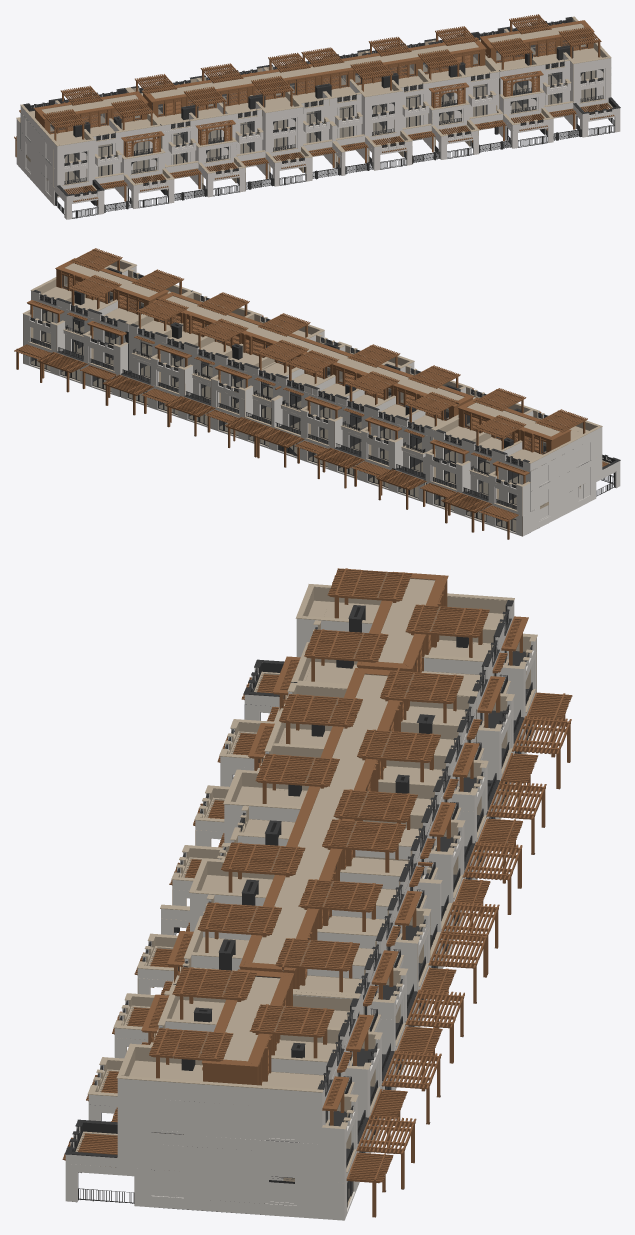
File: Arabian_b7_2_Import3DFiles.glb
The picture shows the model from 3 angles, top to bottom: view 1: azimuth 30°, elevation 25°; view 2: azimuth 150°, elevation 25°; view 3: azimuth 270°, elevation 25°; orthographic projection. The views are drawn at different scales.
Parts seen in each view (by area): view 1: mesh_material_from_multipatch, mesh_material_from_multipatch_4, mesh_material_from_multipatch_7, mesh_material_from_multipatch_6, mesh_material_from_multipatch_2, mesh_material_from_multipatch_5, mesh_material_from_multipatch_1, mesh_material_from_multipatch_3; view 2: mesh_material_from_multipatch_4, mesh_material_from_multipatch, mesh_material_from_multipatch_7, mesh_material_from_multipatch_6, mesh_material_from_multipatch_2, mesh_material_from_multipatch_5, mesh_material_from_multipatch_1; view 3: mesh_material_from_multipatch_4, mesh_material_from_multipatch, mesh_material_from_multipatch_7, mesh_material_from_multipatch_2, mesh_material_from_multipatch_6, mesh_material_from_multipatch_1.
Boxes of the visible parts, left/top/right/bottom form: mesh_material_from_multipatch: left=16, top=19, right=620, bottom=219; mesh_material_from_multipatch_4: left=14, top=14, right=614, bottom=205; mesh_material_from_multipatch_7: left=26, top=19, right=612, bottom=196; mesh_material_from_multipatch_6: left=18, top=17, right=620, bottom=214; mesh_material_from_multipatch_2: left=16, top=16, right=611, bottom=192; mesh_material_from_multipatch_5: left=50, top=37, right=595, bottom=183; mesh_material_from_multipatch_1: left=57, top=70, right=609, bottom=218; mesh_material_from_multipatch_3: left=72, top=74, right=614, bottom=218; mesh_material_from_multipatch_4: left=14, top=248, right=608, bottom=539; mesh_material_from_multipatch: left=23, top=266, right=620, bottom=536; mesh_material_from_multipatch_7: left=26, top=253, right=610, bottom=531; mesh_material_from_multipatch_6: left=30, top=267, right=620, bottom=536; mesh_material_from_multipatch_2: left=22, top=259, right=602, bottom=536; mesh_material_from_multipatch_5: left=30, top=276, right=546, bottom=531; mesh_material_from_multipatch_1: left=30, top=309, right=610, bottom=532; mesh_material_from_multipatch_4: left=62, top=568, right=572, bottom=1217; mesh_material_from_multipatch: left=65, top=587, right=536, bottom=1220; mesh_material_from_multipatch_7: left=75, top=572, right=570, bottom=1193; mesh_material_from_multipatch_2: left=87, top=578, right=537, bottom=1208; mesh_material_from_multipatch_6: left=64, top=600, right=560, bottom=1215; mesh_material_from_multipatch_1: left=174, top=650, right=532, bottom=1207.
Size of the model in its own units: 97.35 by 13.39 by 40.81.
